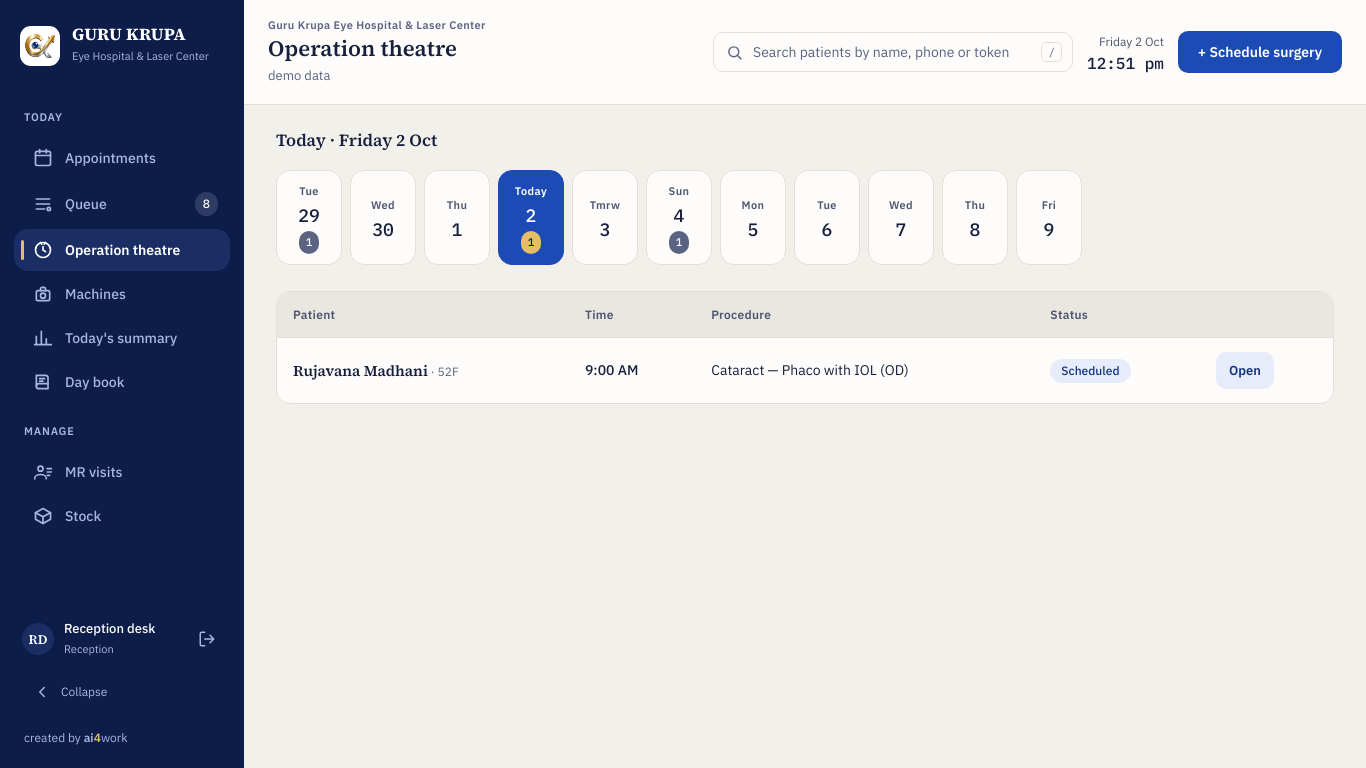
Test: OT screen (F6) › surgery times are read-only for reception (no Reopen either)
This screenshot has width=1366, height=768.
Click the row with test id "ot-row-1" at (805, 370), box [277,338,1333,403]
(page scrolled)
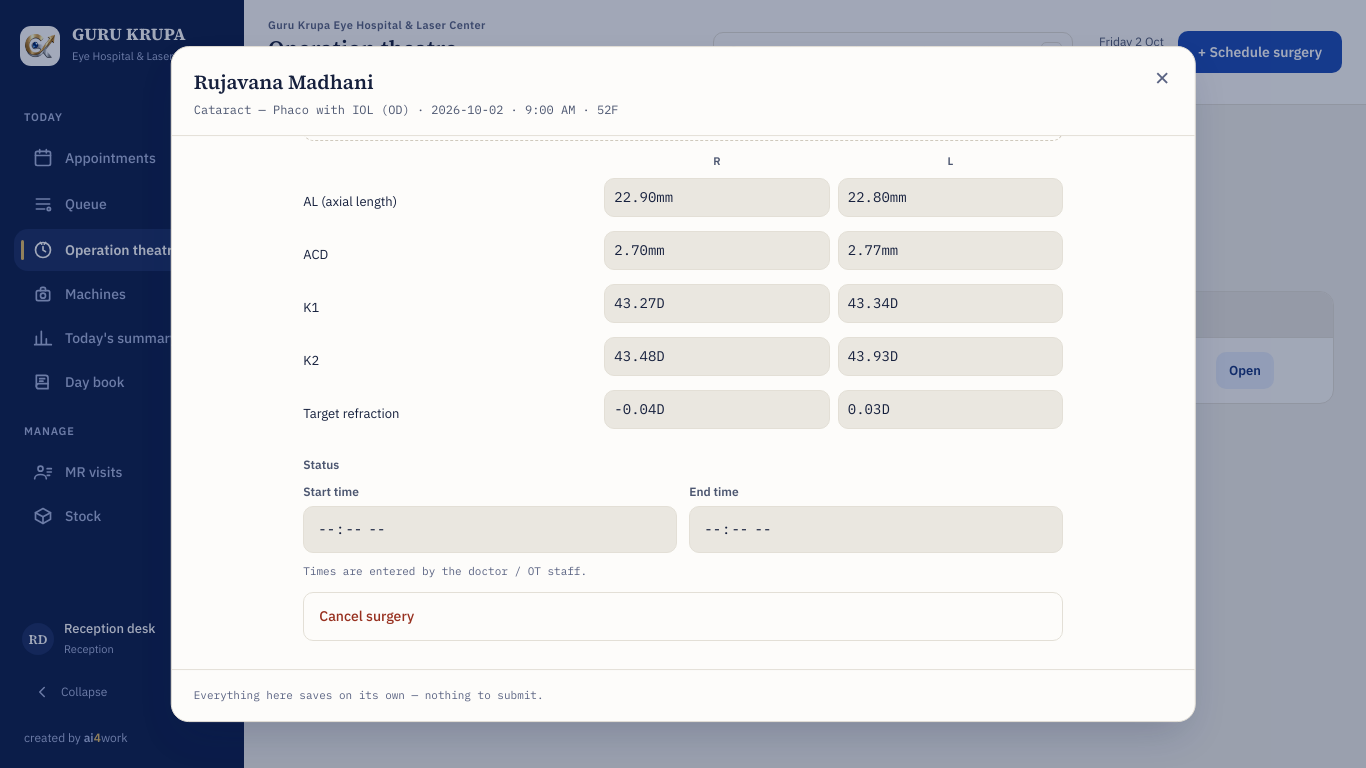
Result: the time field labelled "Start time" is disabled at [303,506,677,553]
Result: the time field labelled "End time" is disabled at [689,506,1063,553]
Result: the text "Times are entered by the doctor / OT staff." is shown at [303,564,587,578]
